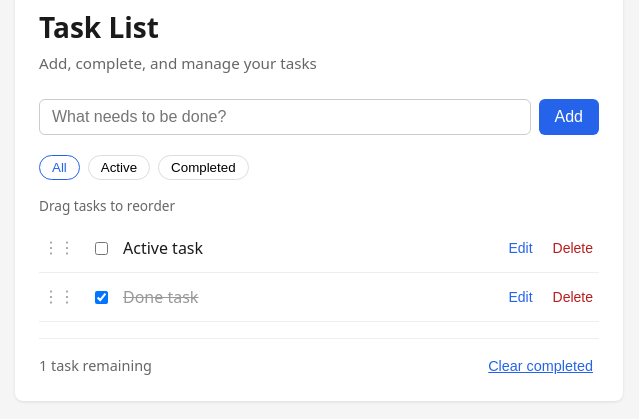
Test: App › clears completed tasks and resets the completed filter
Expected: the text "Active task" is shown, [123,237,203,259]
Click the button "Completed" at (203, 167), box [158,155,249,180]
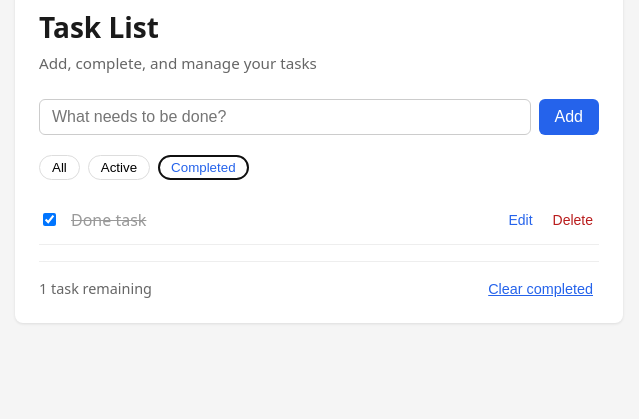
Click the button "Clear completed" at (541, 289), box [482,280,599,298]
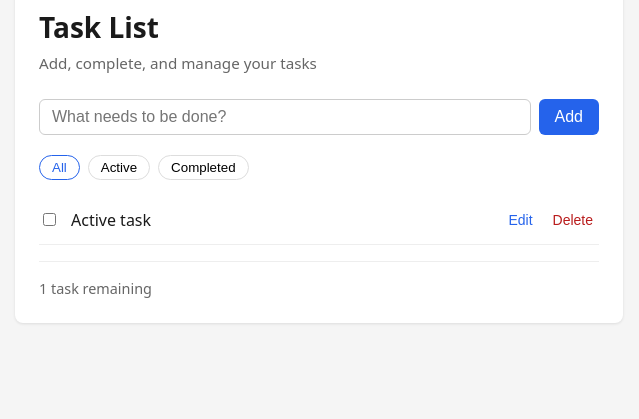
Now the text "Done task" is gone
Now the text "Active task" is shown, box [71,209,151,231]
